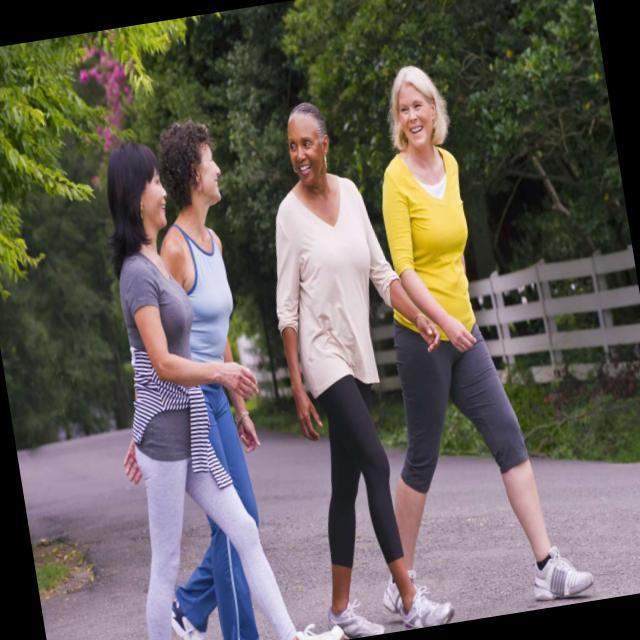Person: (299, 46, 596, 634), (70, 119, 345, 640), (245, 85, 484, 640), (91, 114, 296, 640)
